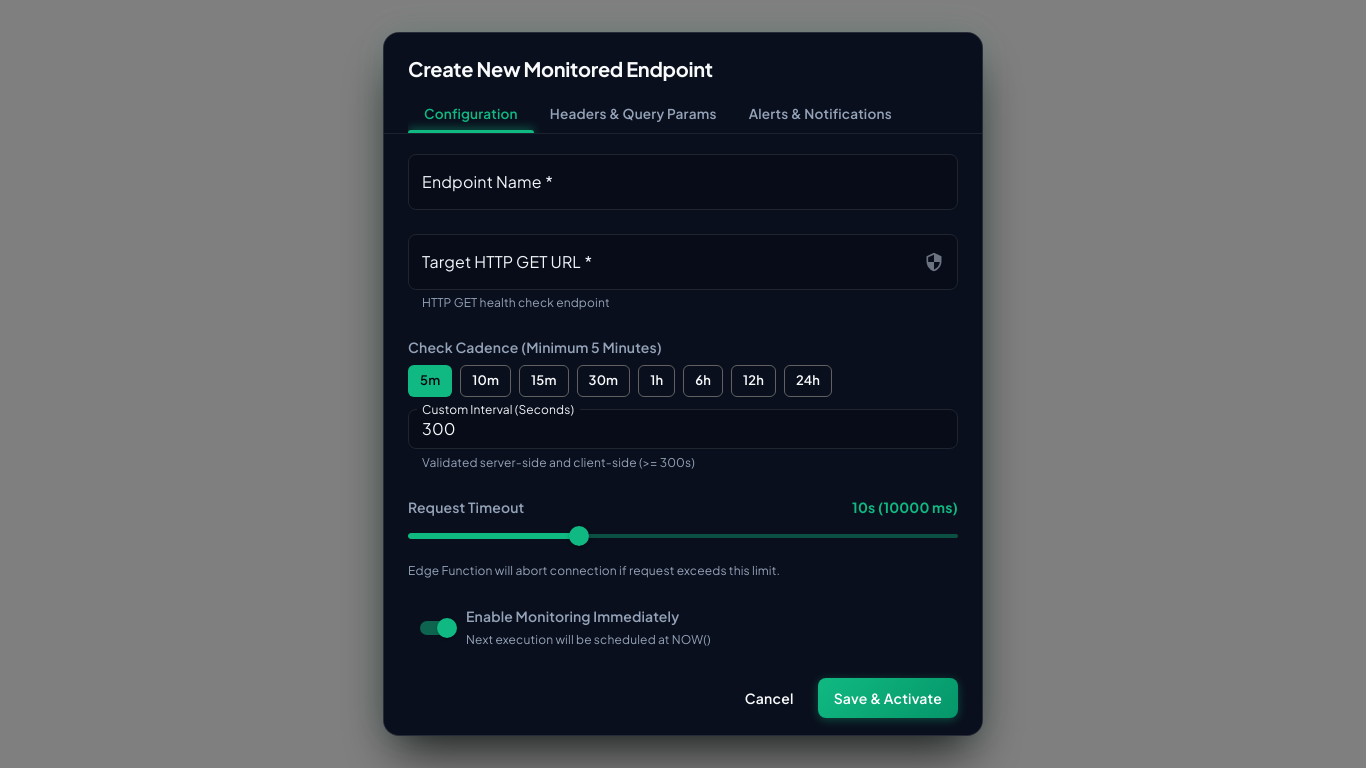
EndpointFormModal Component › allows selecting interval presets like 5m and 1h
Click the button "1h": (657, 381) [638,365,675,397]
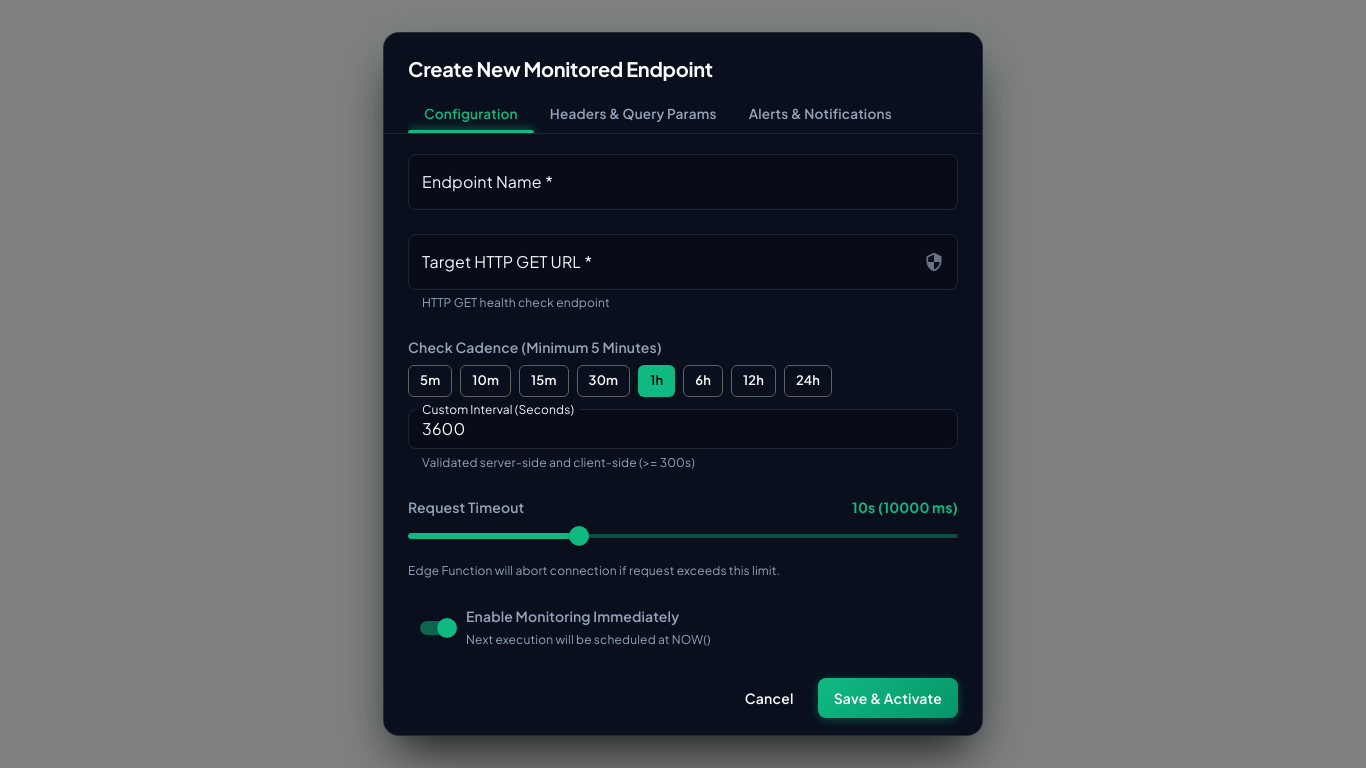
Expected: the number field labelled "Custom Interval (Seconds)" holds "3600", [408,409,958,449]
